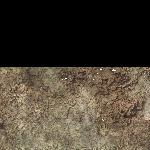dead: (1, 66, 148, 148)
